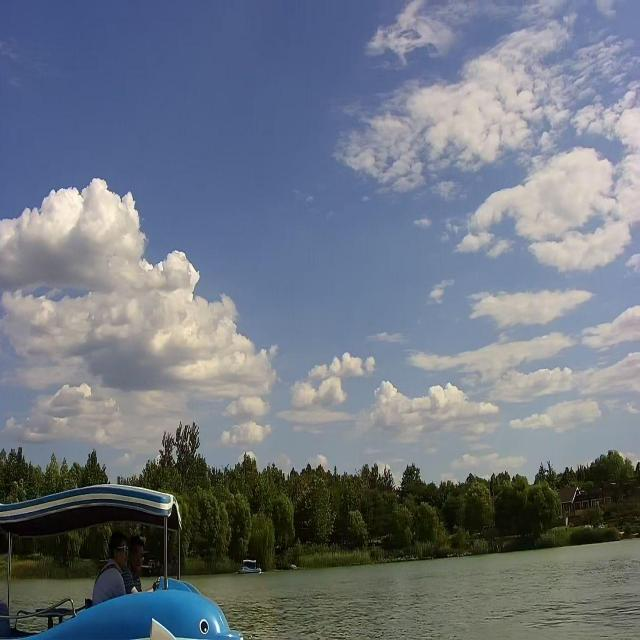CIV_Ship: (0, 487, 245, 640), (236, 554, 264, 577)
